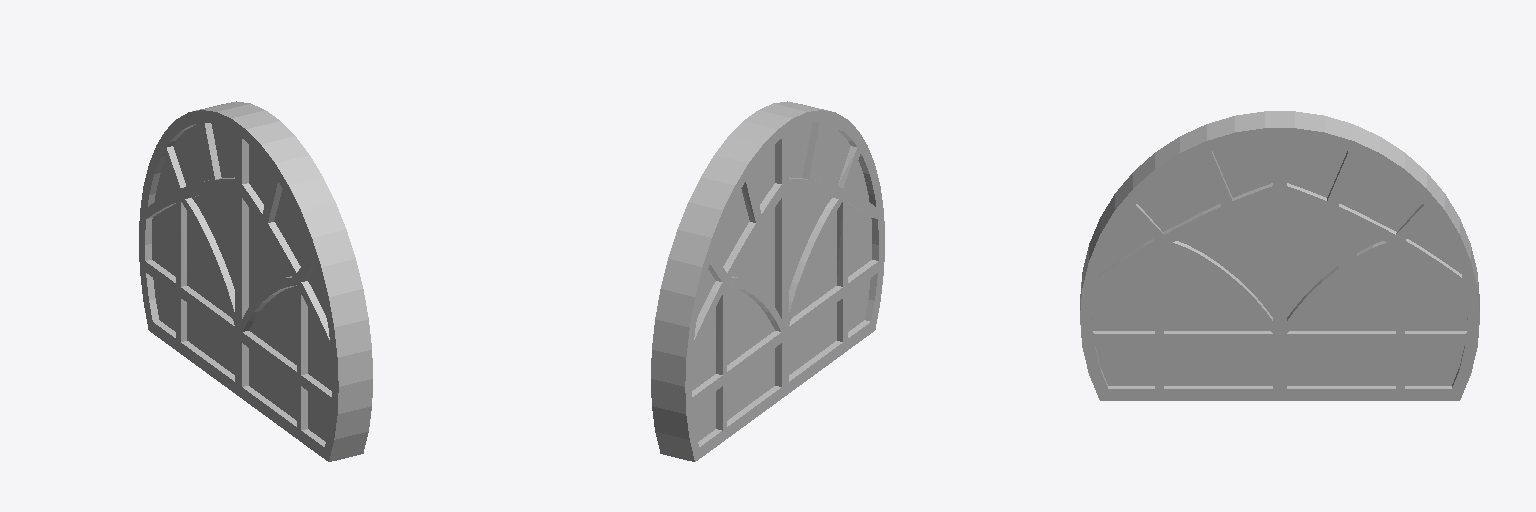
Rendered from Door.obj.
3 views of the same model, side by side, from view 1: azimuth 30°, elevation 25°; view 2: azimuth 150°, elevation 25°; view 3: azimuth 270°, elevation 25° (orthographic).
Visible parts, largest first — view 1: Door; view 2: Door; view 3: Door.
Boxes of the visible parts, x1=… form: Door: x1=139, y1=101, x2=372, y2=461; Door: x1=651, y1=101, x2=884, y2=461; Door: x1=1080, y1=111, x2=1479, y2=400.
Bounding box in the file's own units: 0.3236 × 2.44 × 3.24.